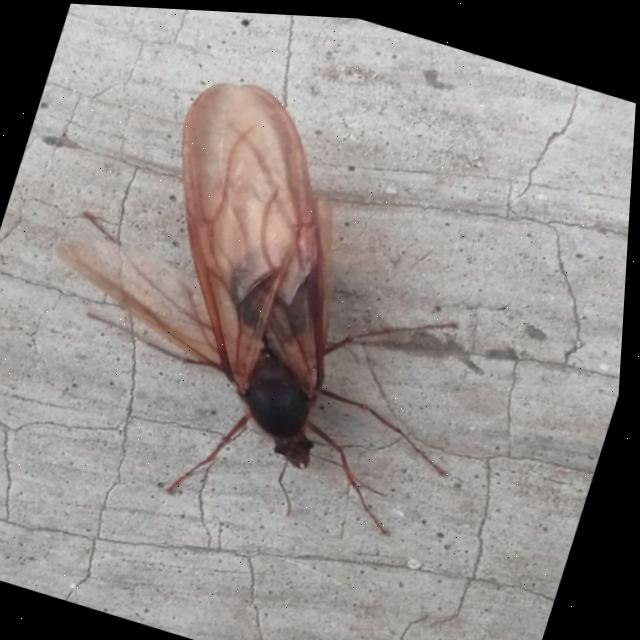Alive-Male-Alate: (0, 37, 547, 569)
